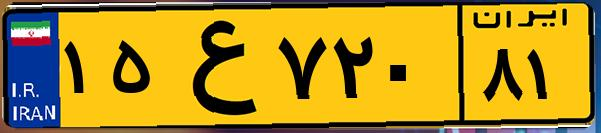0: (385, 28, 445, 110)
1: (57, 26, 110, 100), (525, 38, 570, 115)
2: (330, 28, 385, 110)
5: (110, 28, 158, 98)
7: (270, 28, 330, 110)
8: (475, 38, 525, 113)
ع: (158, 12, 270, 120)
